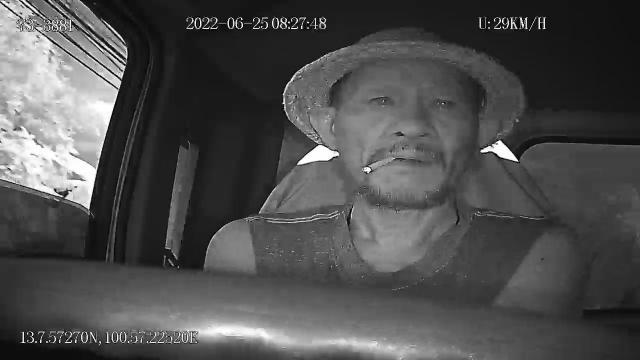SafeDriving: (360, 83, 400, 113), (424, 88, 462, 115)
Smoking: (362, 153, 398, 175)
